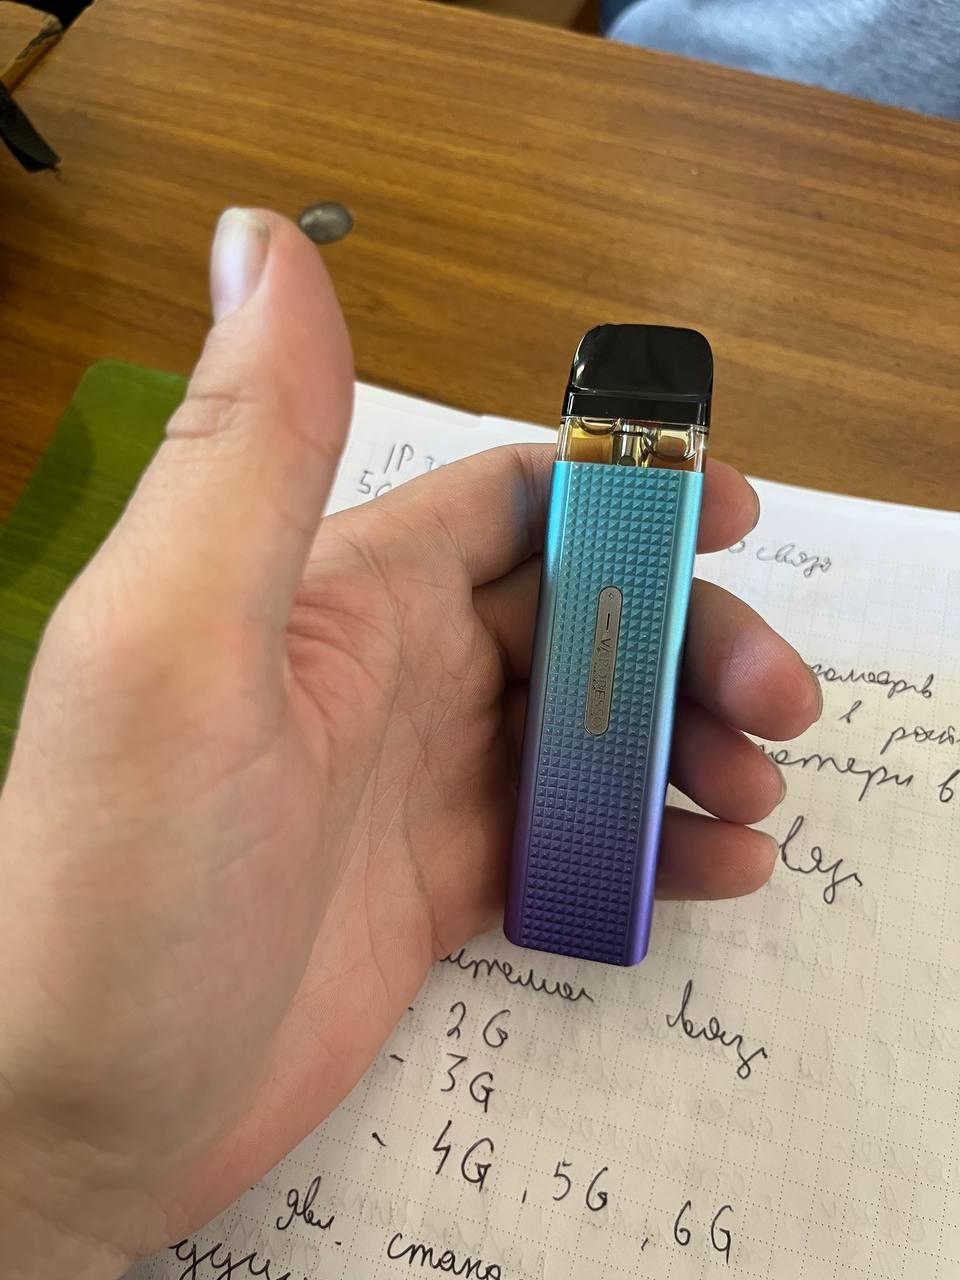Vape: (504, 324, 712, 966)
